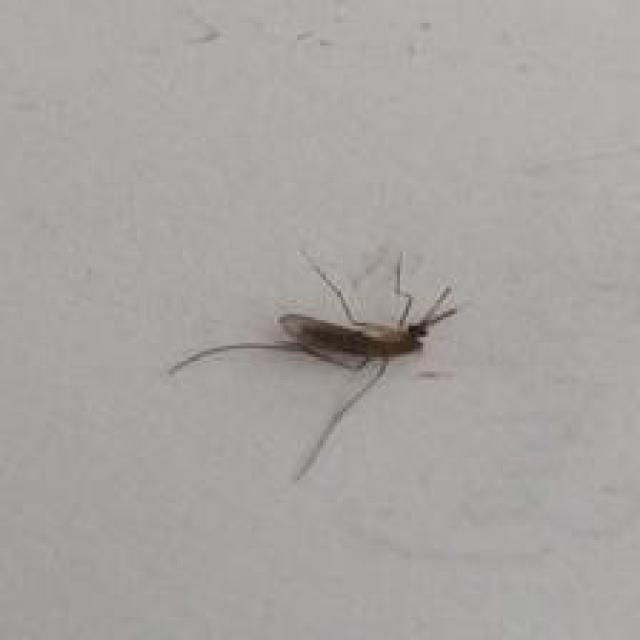Culex: (167, 247, 459, 482)
